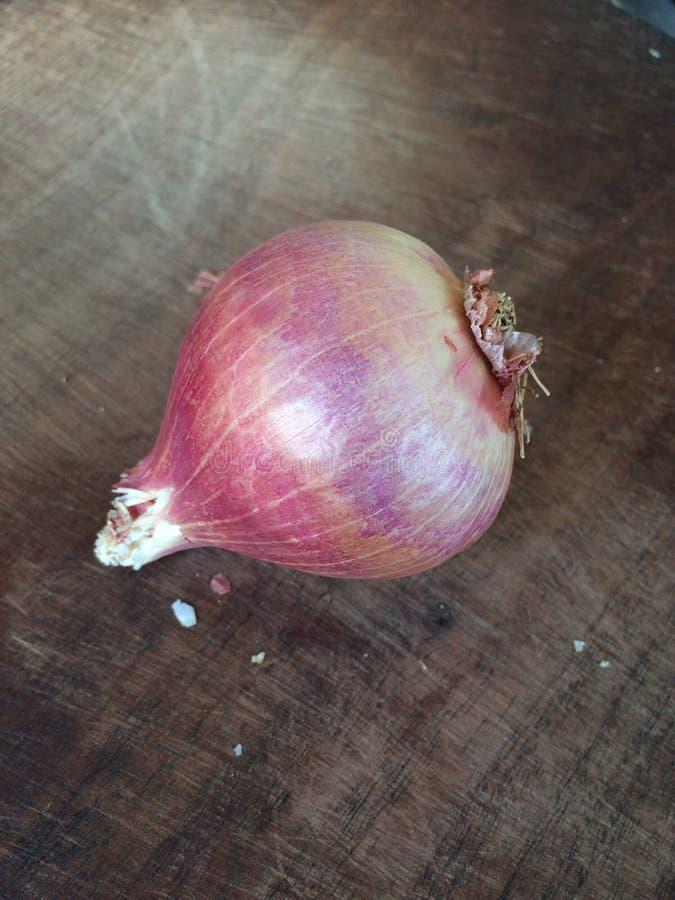Onion: (94, 224, 533, 586)
